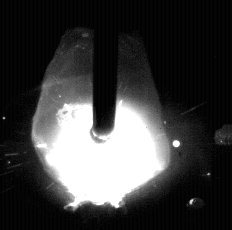arame: (94, 0, 117, 136)
poca: (31, 0, 170, 230)
